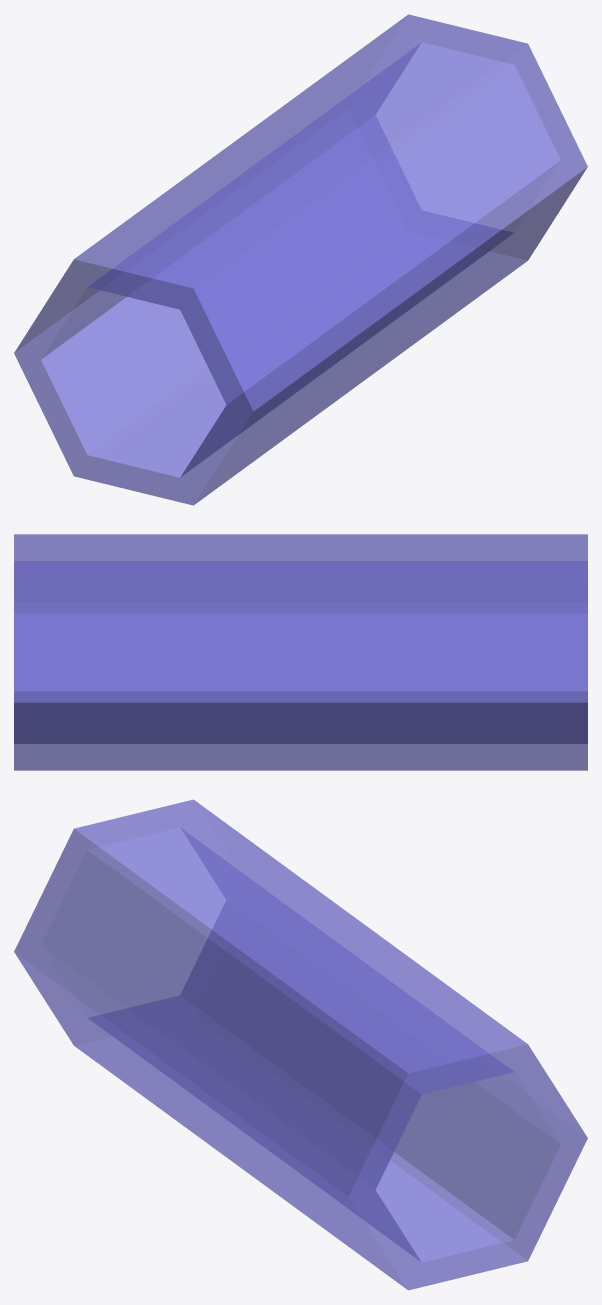
File: reto.glb
3 renders of one model, top to bottom at view 1: azimuth 30°, elevation 25°; view 2: azimuth 150°, elevation 25°; view 3: azimuth 270°, elevation 25°, orthographic. The views are drawn at different scales.
Visible parts, largest first — view 1: reto-col; view 2: reto-col; view 3: reto-col.
Boxes of the visible parts, x1,y1,x2,y2 form: reto-col: (14, 14, 587, 505); reto-col: (14, 534, 587, 770); reto-col: (14, 799, 587, 1290).
Bounding box in the file's own units: 1.61 × 0.5371 × 1.29.
